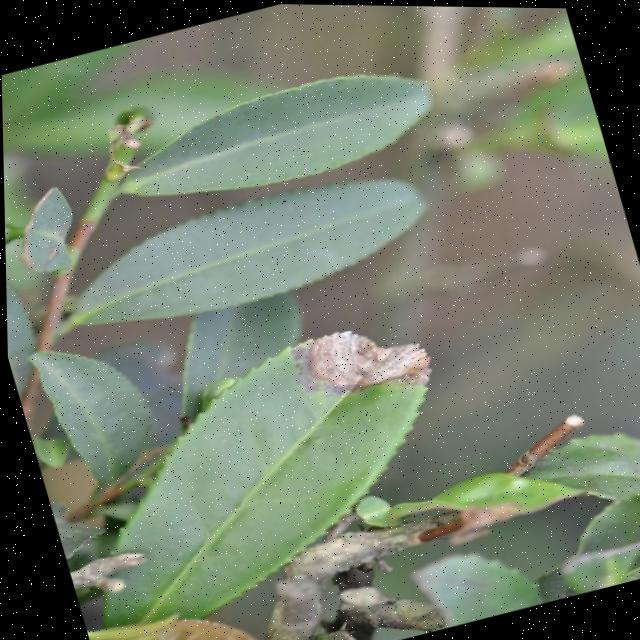Tea cloud leaf blight: (277, 306, 444, 420)
